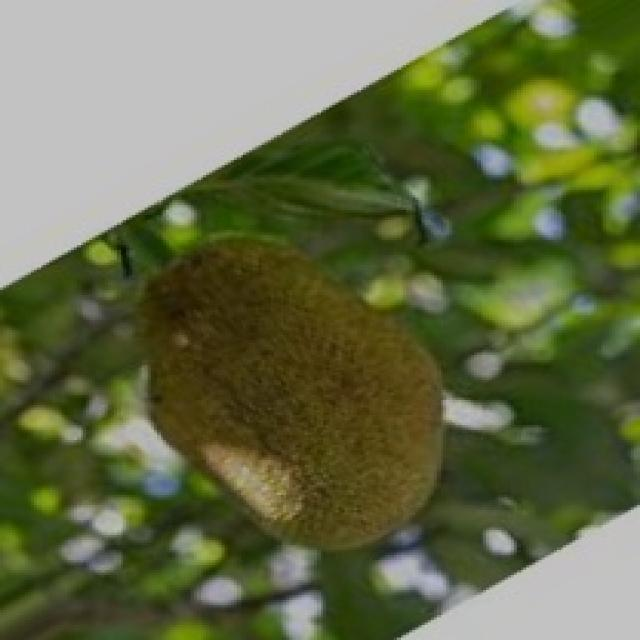Fruit: (98, 198, 477, 578)
